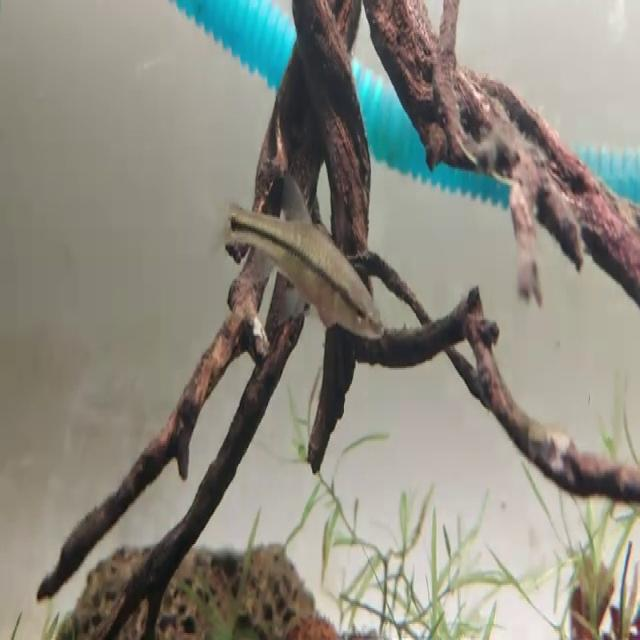Cakil Baligi: (218, 172, 384, 346)
